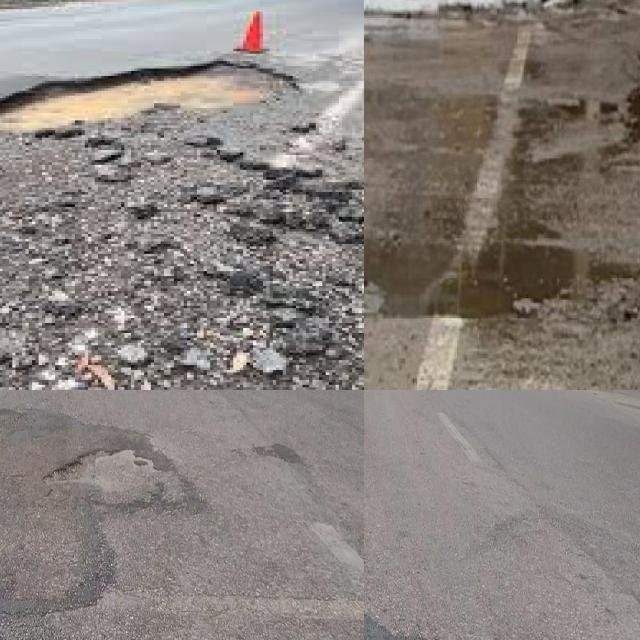Pothole: (0, 61, 286, 135), (44, 443, 173, 503), (504, 243, 576, 300), (614, 273, 640, 335)
